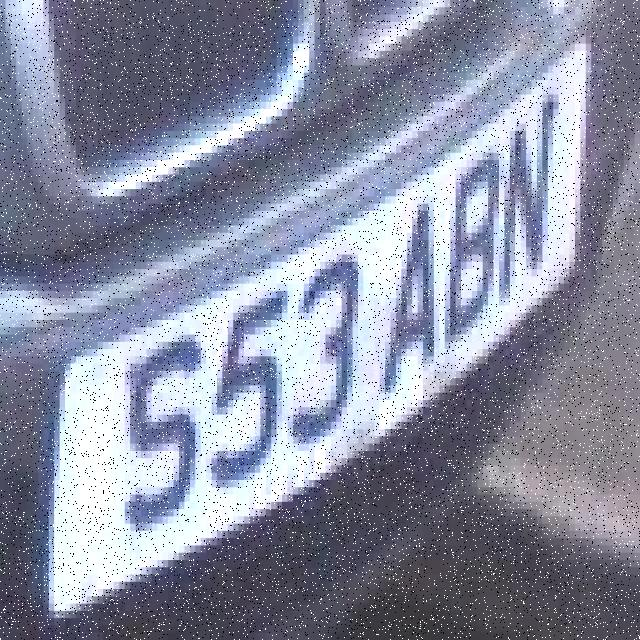licenseplate: (17, 39, 619, 628)
